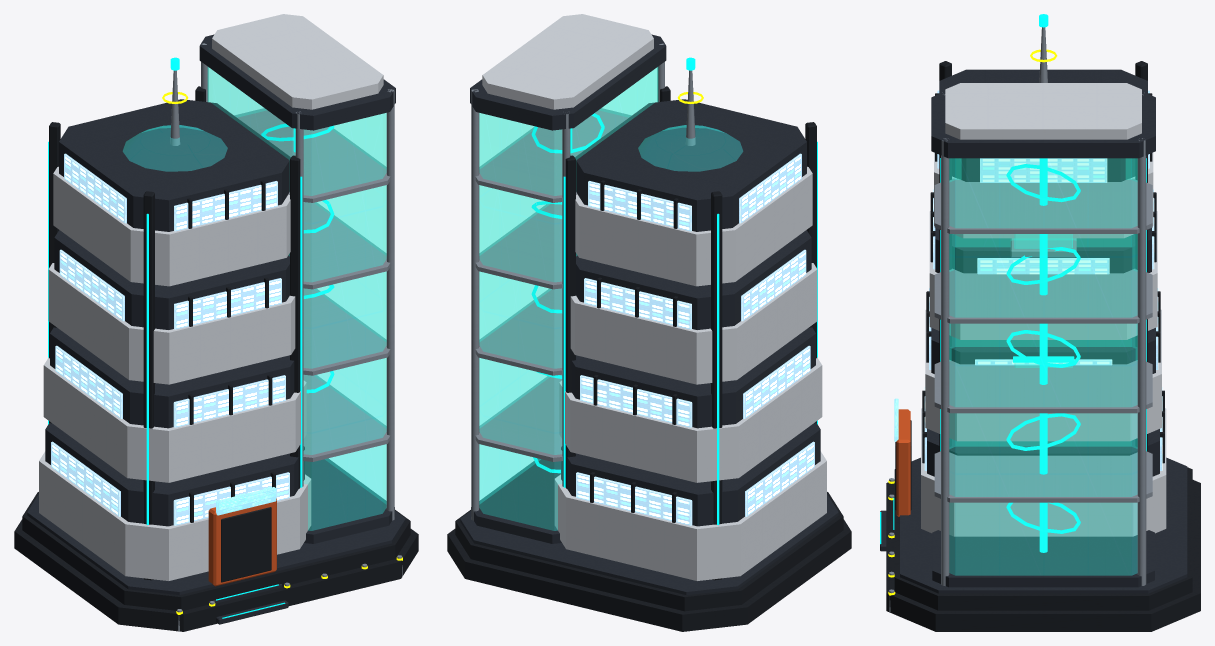
The model's file is bldg_18_r1_02.glb.
3 renders of one model, left to right at view 1: azimuth 30°, elevation 25°; view 2: azimuth 150°, elevation 25°; view 3: azimuth 270°, elevation 25°, orthographic. The views are drawn at different scales.
Visible parts, largest first — view 1: Bldg18_C02_aero_white, Bldg18_C02_carbon_slate, Bldg18_C02_glass_emerald, Bldg18_C02_gunmetal, Bldg18_C02_steel_machined, Bldg18_C02_window_lit, Bldg18_C02_led_cyan, Bldg18_C02_accent_orange, Bldg18_C02_marquee; view 2: Bldg18_C02_aero_white, Bldg18_C02_carbon_slate, Bldg18_C02_glass_emerald, Bldg18_C02_steel_machined, Bldg18_C02_gunmetal, Bldg18_C02_window_lit, Bldg18_C02_led_cyan; view 3: Bldg18_C02_glass_emerald, Bldg18_C02_steel_machined, Bldg18_C02_carbon_slate, Bldg18_C02_aero_white, Bldg18_C02_gunmetal, Bldg18_C02_window_lit, Bldg18_C02_led_cyan, Bldg18_C02_accent_orange.
Boxes of the visible parts, <box> form: Bldg18_C02_aero_white: <box>39,14,383,580</box>; Bldg18_C02_carbon_slate: <box>27,34,405,624</box>; Bldg18_C02_glass_emerald: <box>123,67,386,530</box>; Bldg18_C02_gunmetal: <box>14,86,418,631</box>; Bldg18_C02_steel_machined: <box>170,42,402,631</box>; Bldg18_C02_window_lit: <box>51,153,289,525</box>; Bldg18_C02_led_cyan: <box>48,57,334,618</box>; Bldg18_C02_accent_orange: <box>208,498,276,586</box>; Bldg18_C02_marquee: <box>216,487,276,515</box>; Bldg18_C02_aero_white: <box>482,14,826,580</box>; Bldg18_C02_carbon_slate: <box>460,34,838,595</box>; Bldg18_C02_glass_emerald: <box>479,67,742,530</box>; Bldg18_C02_steel_machined: <box>471,42,695,520</box>; Bldg18_C02_gunmetal: <box>447,86,851,631</box>; Bldg18_C02_window_lit: <box>576,153,814,525</box>; Bldg18_C02_led_cyan: <box>531,57,817,525</box>; Bldg18_C02_glass_emerald: <box>949,158,1137,575</box>; Bldg18_C02_steel_machined: <box>889,27,1152,612</box>; Bldg18_C02_carbon_slate: <box>880,69,1187,593</box>; Bldg18_C02_aero_white: <box>921,83,1166,536</box>; Bldg18_C02_gunmetal: <box>886,61,1200,631</box>; Bldg18_C02_window_lit: <box>924,90,1162,470</box>; Bldg18_C02_led_cyan: <box>880,14,1146,552</box>; Bldg18_C02_accent_orange: <box>896,409,910,516</box>.
Bounding box in the file's own units: 12 × 19.12 × 10.71.
12 materials, 12 textured.
